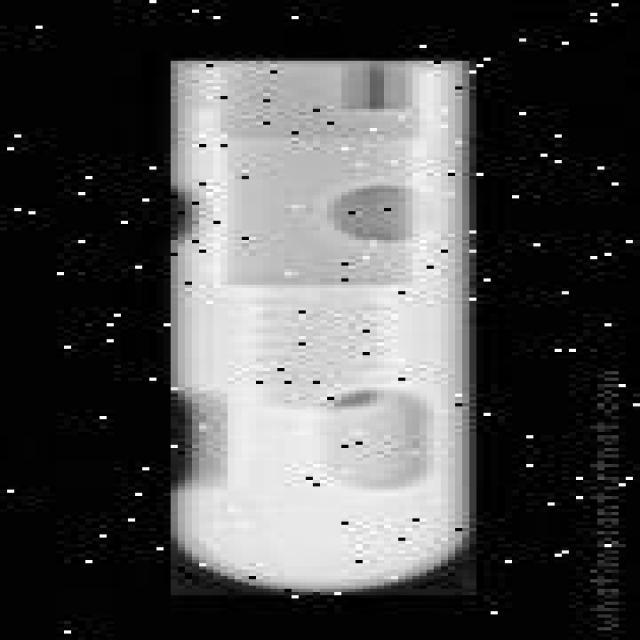Root canal obturation: (170, 61, 482, 597)
